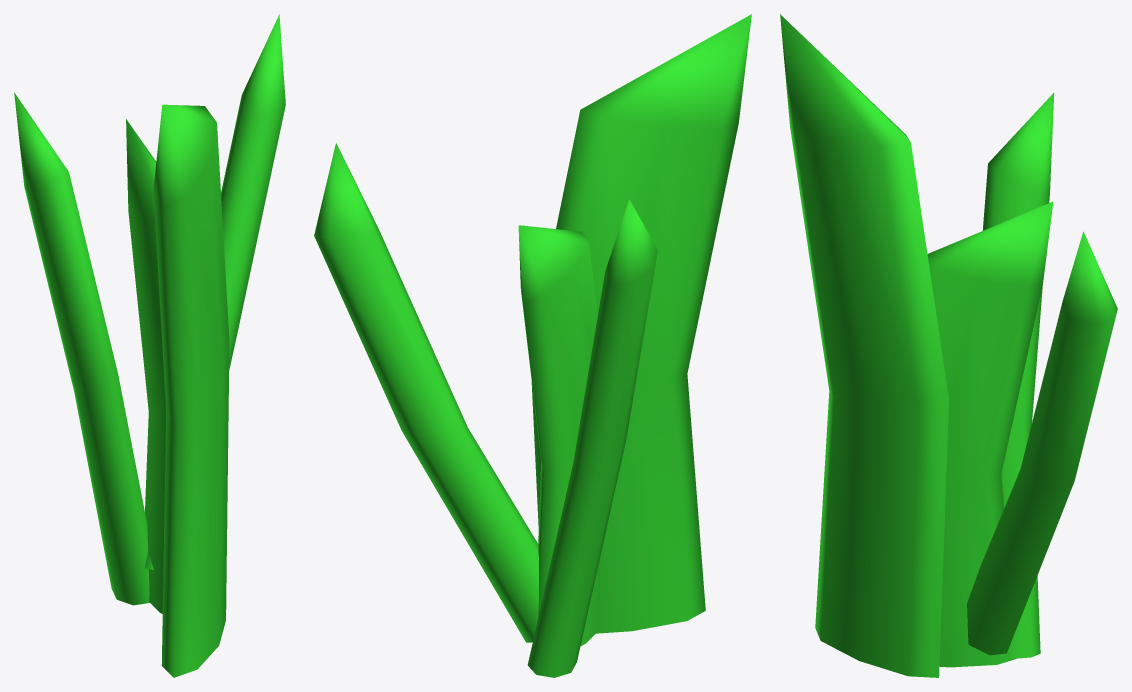
File: Grass.fbx
3 renders of one model, left to right at view 1: azimuth 30°, elevation 25°; view 2: azimuth 150°, elevation 25°; view 3: azimuth 270°, elevation 25°, orthographic.
Parts seen in each view (by area): view 1: Circle; view 2: Circle; view 3: Circle.
Boxes of the visible parts, box(x1,y1,x2,y2) form: Circle: box(14, 14, 285, 677); Circle: box(314, 14, 751, 677); Circle: box(780, 14, 1117, 677).
Size of the model in its own units: 18.06 by 34.77 by 17.71.
